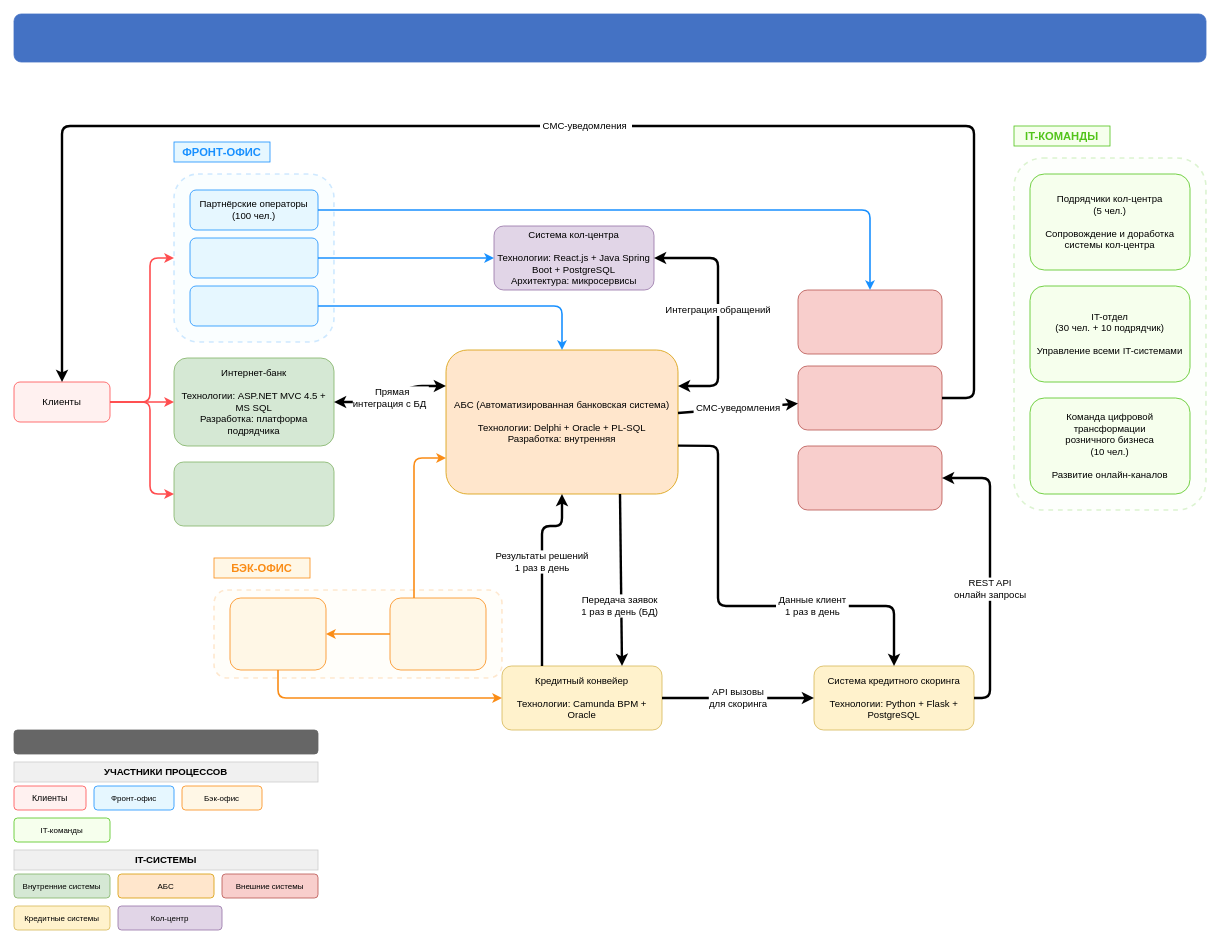
The diagram is 1221 pixels wide and 944 high, and some of its shapes have lost their labels. Each missing label, with the centre of its shape:
Бюро кредитных историй: point (869, 477)
ЛЕГЕНДА: point (165, 741)
Менеджеры депозитов (50 чел.): point (437, 633)
Менеджеры кредитования (50 чел.): point (277, 633)
Операторы кол-центра (200 чел.): point (253, 257)
Партнёрский кол-центр: point (869, 321)
Сайт банка Технологии: PHP + React.js Разработка: собственная: point (253, 493)
СМС-шлюз Телеком-оператор: point (869, 397)
Сотрудники отделений (500 чел.): point (253, 305)
Схема интеграции приложений с участниками процессов банка "Стандарт": point (609, 37)
